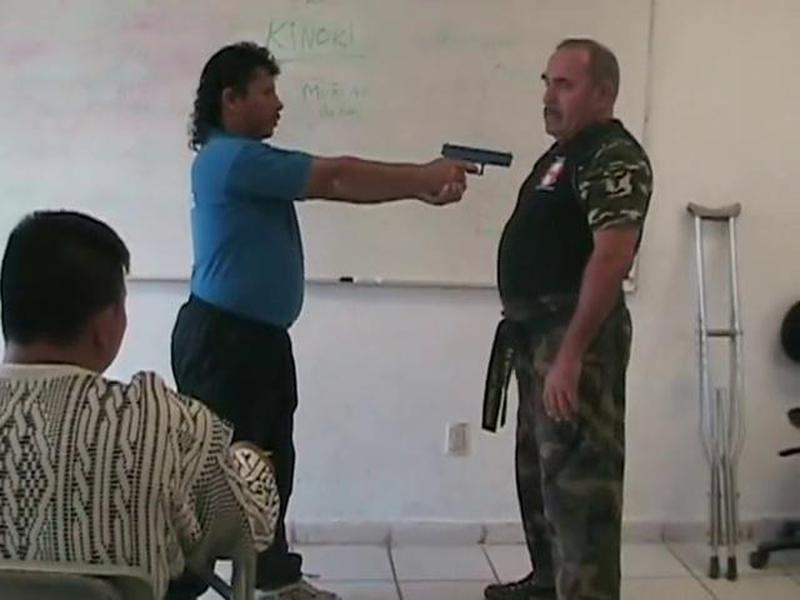Pistola: (431, 133, 521, 212)
